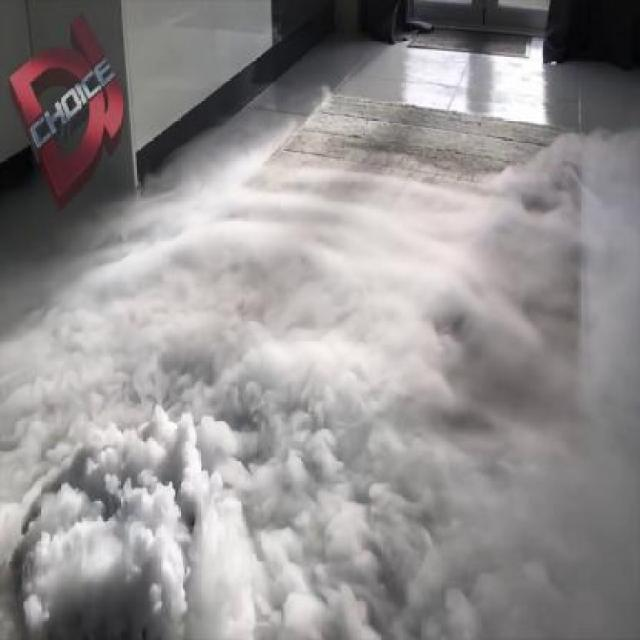smoke: (1, 142, 632, 630)
